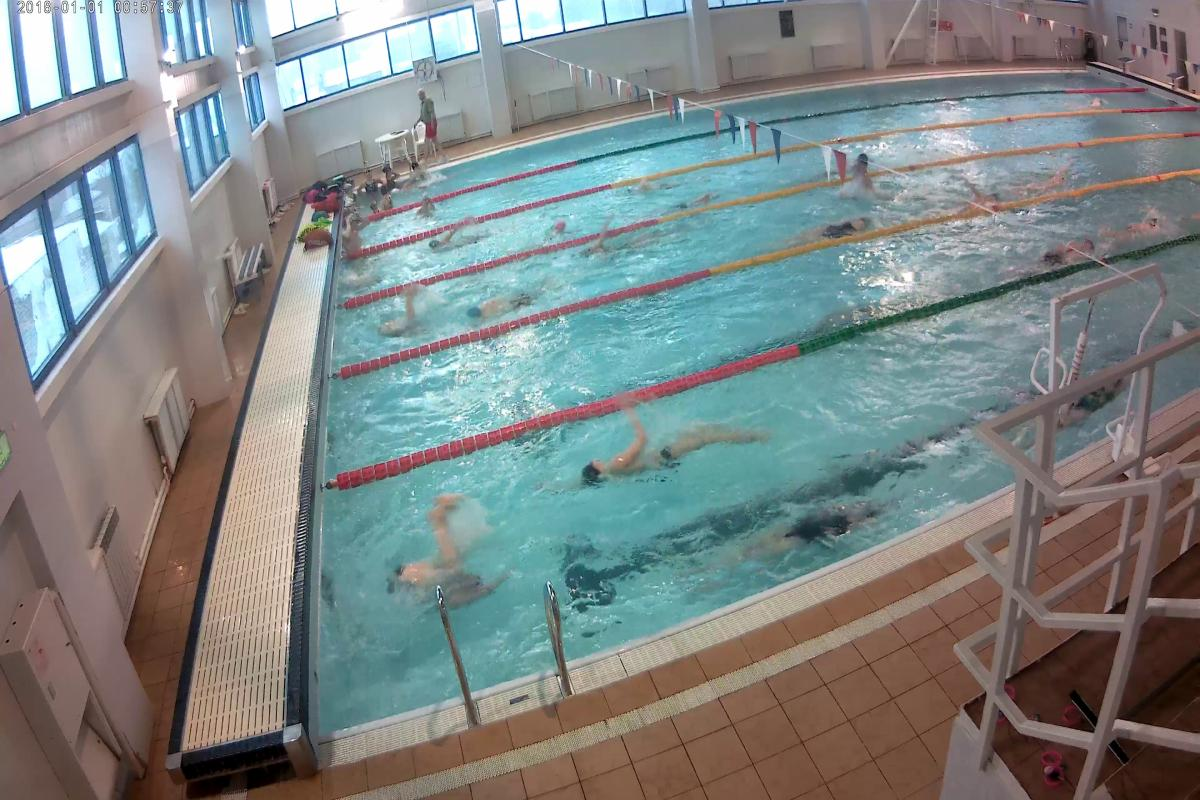swimmer: (379, 483, 517, 601), (574, 424, 774, 494), (751, 489, 888, 558), (371, 290, 430, 341), (1020, 155, 1085, 190), (802, 209, 877, 238), (473, 286, 532, 321), (1039, 227, 1096, 262), (850, 145, 882, 190), (1116, 209, 1164, 237), (427, 228, 470, 253)
